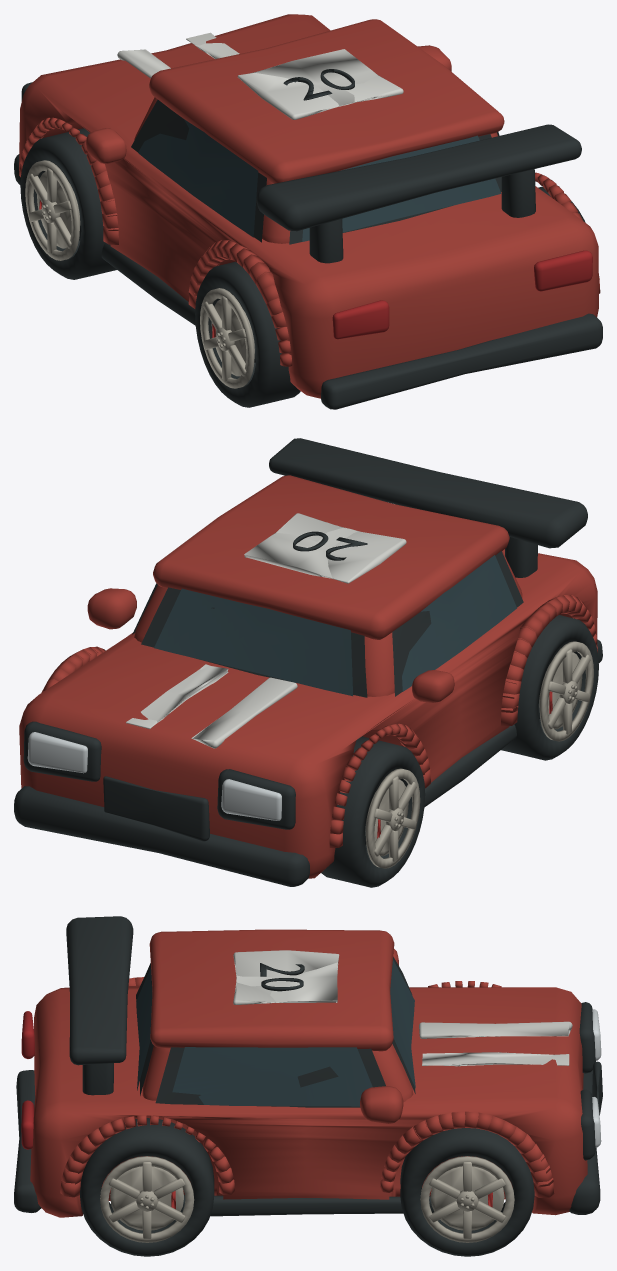
The model's file is car_speed.glb.
3 renders of one model, top to bottom at view 1: azimuth 30°, elevation 25°; view 2: azimuth 150°, elevation 25°; view 3: azimuth 270°, elevation 25°, orthographic. The views are drawn at different scales.
Visible parts, largest first — view 1: Body, WheelMesh.002, WheelMesh; view 2: Body, WheelMesh, WheelMesh.002; view 3: Body, WheelMesh.003, WheelMesh.001.
Part boxes in pixels (box(x1,y1,x2,y2)): Body: box(14, 14, 602, 409); WheelMesh.002: box(195, 261, 300, 407); WheelMesh: box(20, 128, 116, 279); Body: box(14, 438, 602, 886); WheelMesh: box(321, 736, 425, 887); WheelMesh.002: box(501, 615, 598, 760); Body: box(14, 916, 602, 1217); WheelMesh.003: box(80, 1118, 214, 1256); WheelMesh.001: box(400, 1128, 534, 1256).
Size of the model in its own units: 2.64 by 1.62 by 4.12.
